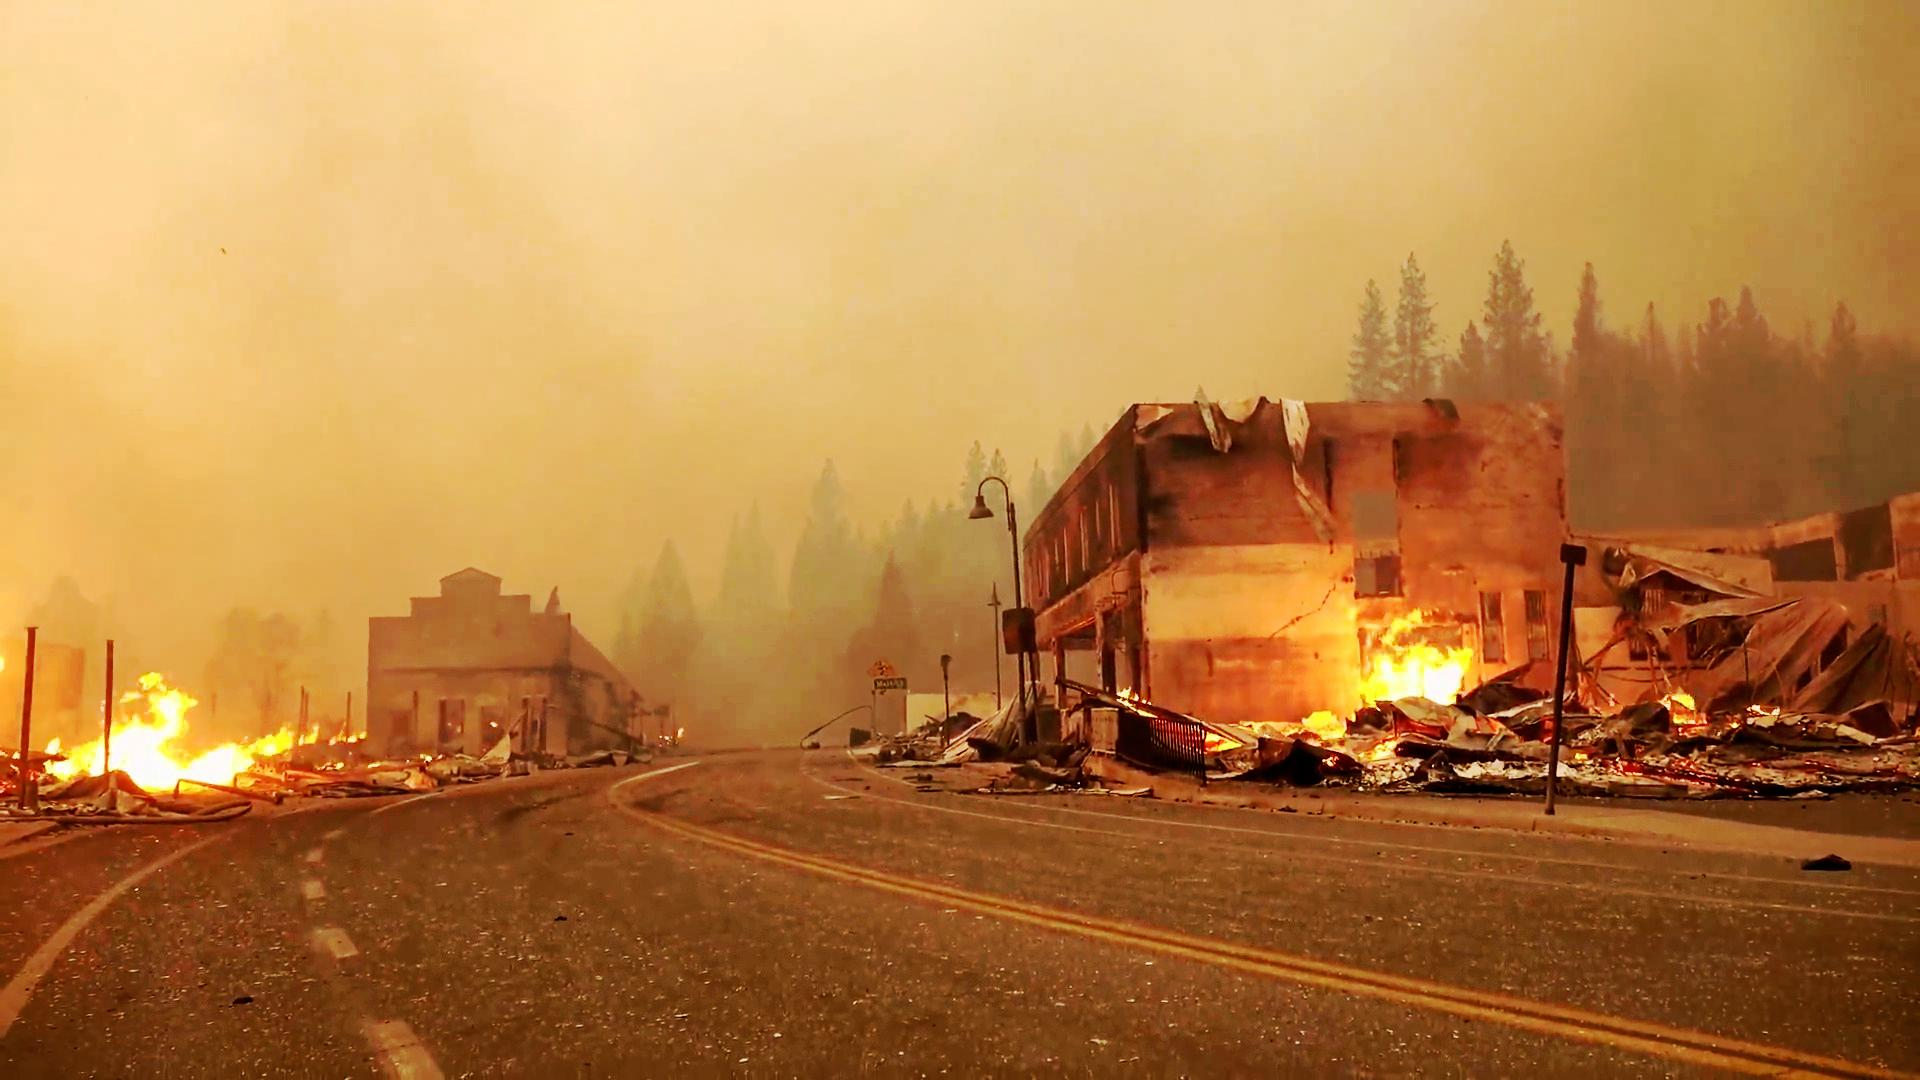fire: (67, 644, 265, 790), (1358, 613, 1465, 715)
